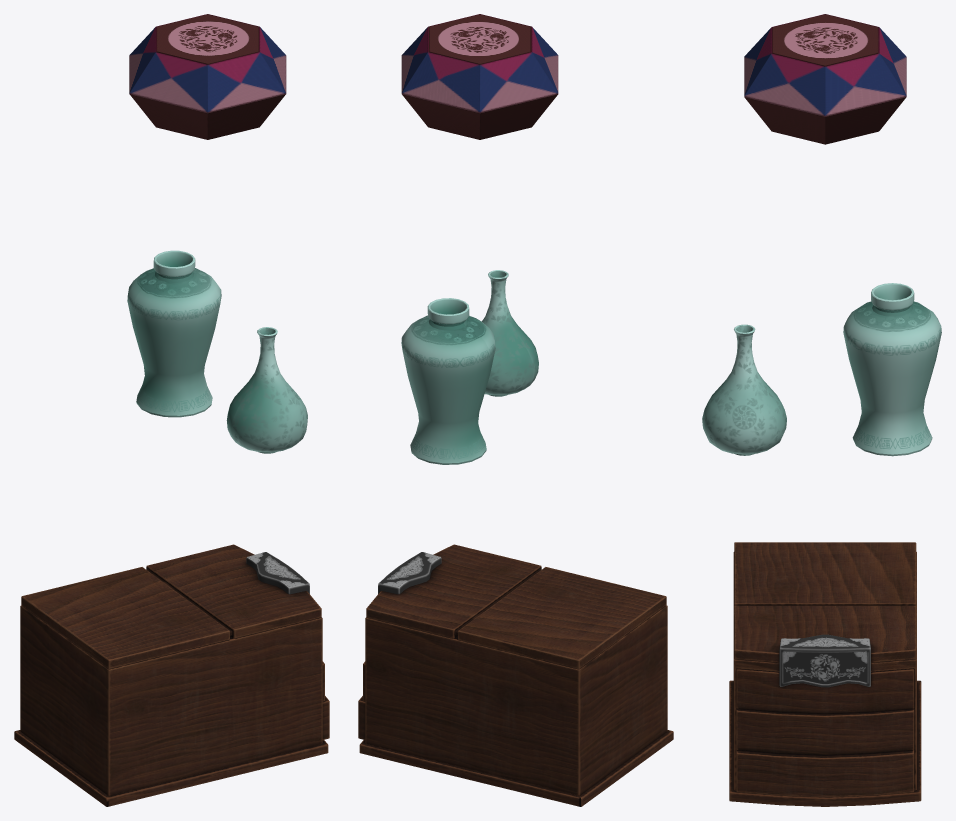
The model's file is TraditionalKoreanHouse_Deco.fbx.
3 renders of one model, left to right at view 1: azimuth 30°, elevation 25°; view 2: azimuth 150°, elevation 25°; view 3: azimuth 270°, elevation 25°, orthographic. The views are drawn at different scales.
Visible parts, largest first — view 1: TraditionalKoreanHouse_Deco; view 2: TraditionalKoreanHouse_Deco; view 3: TraditionalKoreanHouse_Deco.
Boxes of the visible parts, x1=… form: TraditionalKoreanHouse_Deco: x1=14, y1=14, x2=329, y2=806; TraditionalKoreanHouse_Deco: x1=358, y1=14, x2=673, y2=806; TraditionalKoreanHouse_Deco: x1=702, y1=14, x2=941, y2=806.
Size of the model in its own units: 30.09 by 84.71 by 25.43.
